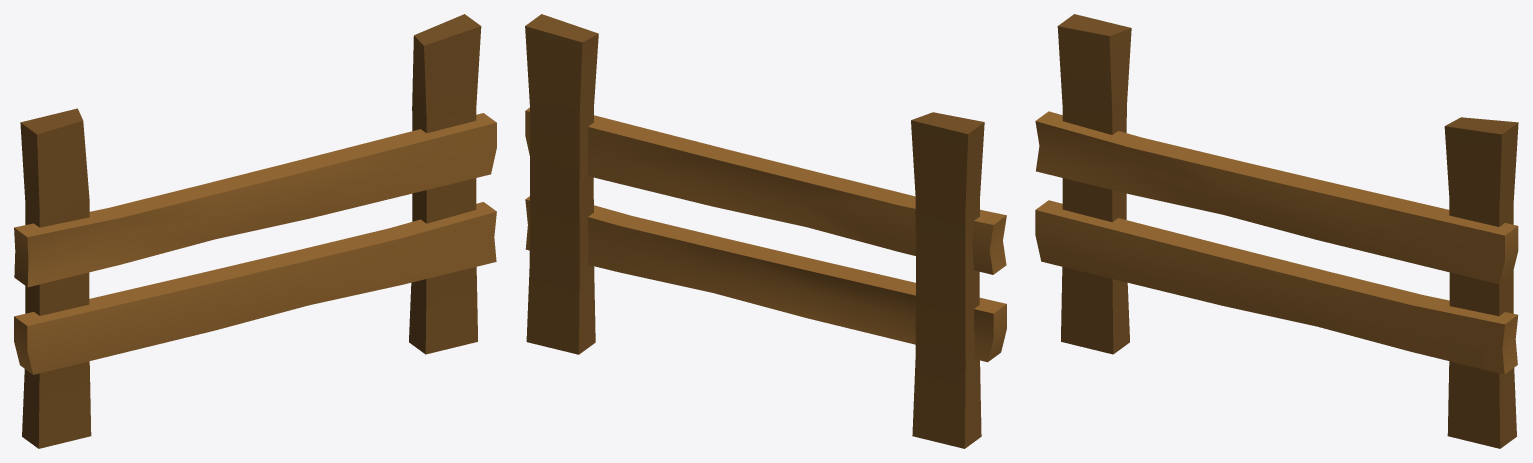
The model's file is fence.fbx.
3 views of the same model, side by side, from view 1: azimuth 30°, elevation 25°; view 2: azimuth 150°, elevation 25°; view 3: azimuth 330°, elevation 25° (orthographic).
Visible parts, largest first — view 1: pCube1, pasted__pCube1, pCube2, pCube3; view 2: pCube1, pasted__pCube1, pCube2, pCube3; view 3: pasted__pCube1, pCube1, pCube2, pCube3.
Part boxes in pixels (left/top/right/bottom): pCube1: left=14, top=113, right=496, bottom=287; pasted__pCube1: left=14, top=202, right=496, bottom=374; pCube2: left=20, top=108, right=91, bottom=448; pCube3: left=409, top=14, right=481, bottom=354; pCube1: left=525, top=107, right=1006, bottom=274; pasted__pCube1: left=525, top=196, right=1006, bottom=362; pCube2: left=911, top=112, right=984, bottom=448; pCube3: left=525, top=14, right=598, bottom=354; pasted__pCube1: left=1035, top=200, right=1518, bottom=374; pCube1: left=1035, top=111, right=1518, bottom=284; pCube2: left=1057, top=14, right=1131, bottom=354; pCube3: left=1444, top=117, right=1518, bottom=448.
Size of the model in its own units: 6.71 by 4.31 by 0.6289.
